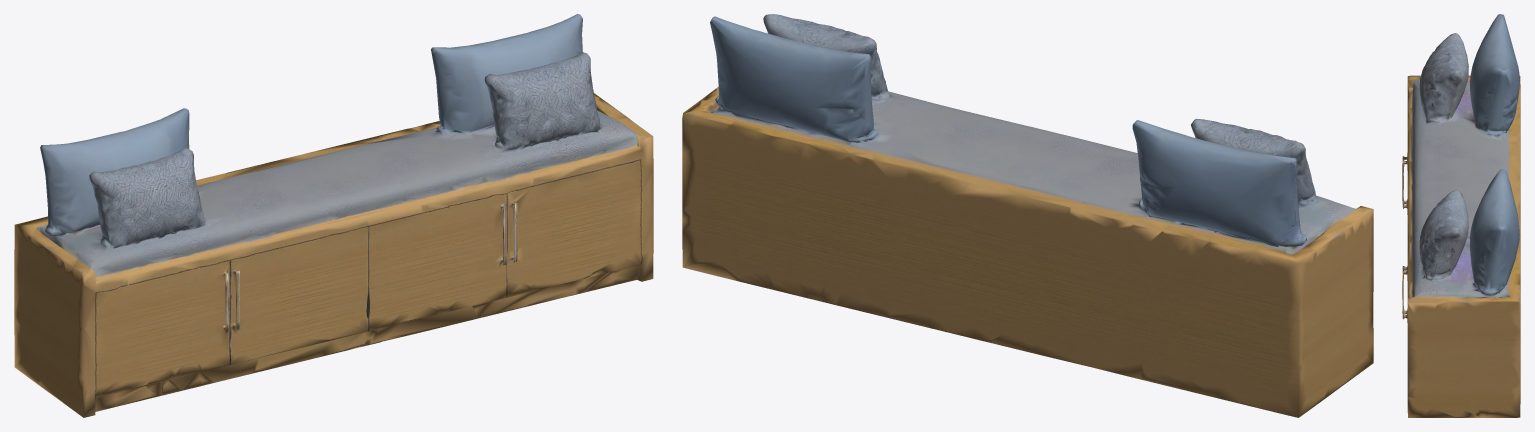
The model's file is Wooden Bench Room Divider.glb.
3 renders of one model, left to right at view 1: azimuth 30°, elevation 25°; view 2: azimuth 150°, elevation 25°; view 3: azimuth 270°, elevation 25°, orthographic. The views are drawn at different scales.
Visible parts, largest first — view 1: Mesh_0.004; view 2: Mesh_0.004; view 3: Mesh_0.004.
Boxes of the visible parts, x1,y1,x2,y2 form: Mesh_0.004: [14, 14, 653, 417]; Mesh_0.004: [682, 14, 1373, 417]; Mesh_0.004: [1402, 14, 1520, 417].
Size of the model in its own units: 1.18 by 0.4499 by 0.2595.
1 material, 1 textured.
